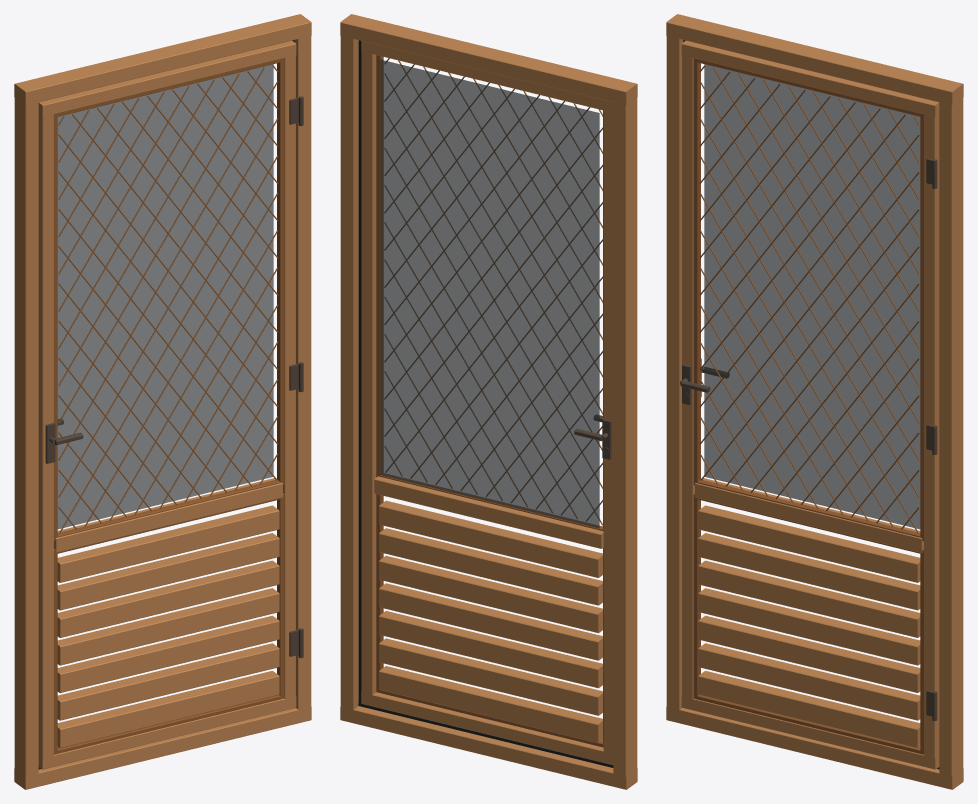
The model's file is wood-finish-louver-panel-screen-door-02.glb.
3 views of the same model, side by side, from view 1: azimuth 30°, elevation 25°; view 2: azimuth 150°, elevation 25°; view 3: azimuth 330°, elevation 25° (orthographic).
Parts seen in each view (by area): view 1: Upper screen insect mesh, Lower louvers slat, Outer jamb, Door leaf, Upper screen security grille, Upper screen trim, Louver divider, Lower louvers trim, Hinge leaves, Hinge barrels; view 2: Upper screen insect mesh, Outer jamb, Lower louvers slat, Door leaf, Upper screen security grille, Upper screen trim, Louver divider, Weather seal, Lower louvers trim; view 3: Upper screen insect mesh, Lower louvers slat, Outer jamb, Door leaf, Upper screen security grille, Upper screen trim, Louver divider, Lower louvers trim, Hinge leaves, Hinge barrels.
Part boxes in pixels (x1,y1,x2,y2): Upper screen insect mesh: (57,64,273,529); Lower louvers slat: (57,505,279,748); Outer jamb: (14,14,311,789); Door leaf: (38,40,296,769); Upper screen security grille: (58,65,278,533); Upper screen trim: (54,58,284,541); Louver divider: (54,478,282,552); Lower louvers trim: (54,493,284,754); Hinge leaves: (289,97,298,656); Hinge barrels: (298,96,303,658); Upper screen insect mesh: (380,59,599,528); Outer jamb: (340,14,637,789); Lower louvers slat: (379,500,602,743); Door leaf: (361,41,613,764); Upper screen security grille: (384,58,602,525); Upper screen trim: (376,55,603,531); Louver divider: (374,476,603,548); Weather seal: (358,40,613,767); Lower louvers trim: (376,494,603,747); Upper screen insect mesh: (704,64,920,529); Lower louvers slat: (698,505,920,748); Outer jamb: (666,14,963,789); Door leaf: (681,40,939,769); Upper screen security grille: (699,65,919,533); Upper screen trim: (693,58,923,541); Louver divider: (695,478,923,552); Lower louvers trim: (693,493,923,754); Hinge leaves: (926,158,932,716); Hinge barrels: (932,159,937,720).
Bounding box in the file's own units: 0.9 × 2.1 × 0.123.
